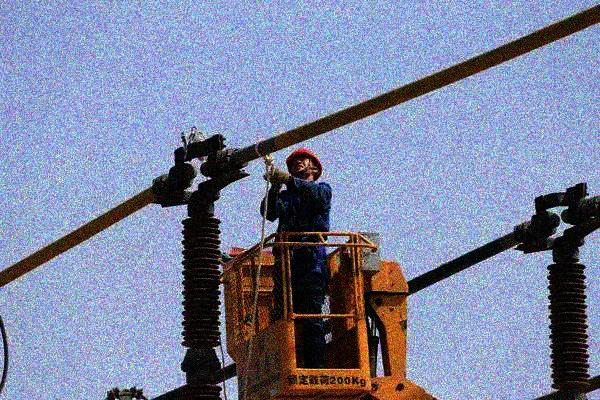helmet: (284, 147, 323, 184)
